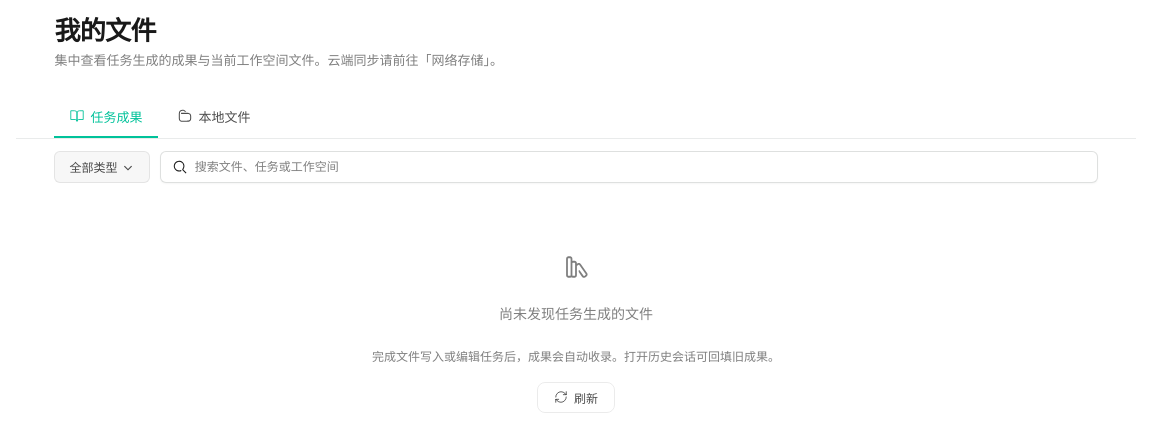
Test case: MyFilesPanel › 目录加载失败显示错误与重试，不误报暂无文件
The image size is (1153, 430).
What coordinates should you click on to do the following:
click the button "本地文件"
I would click on:
 (214, 118)
Its box is [162,98,266,138].
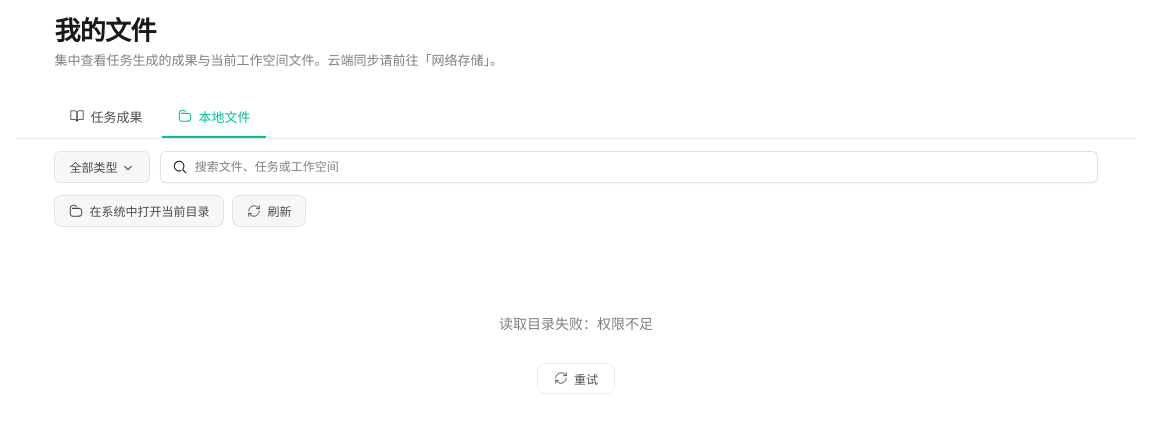
Expected: the text "暂无文件" is not shown
Now the message shows "读取目录失败：权限不足", box [499,314,653,394]
What coordinates should you click on to do the following:
click the button "重试"
I would click on:
 (576, 378)
Its box is [537,362,615,394].
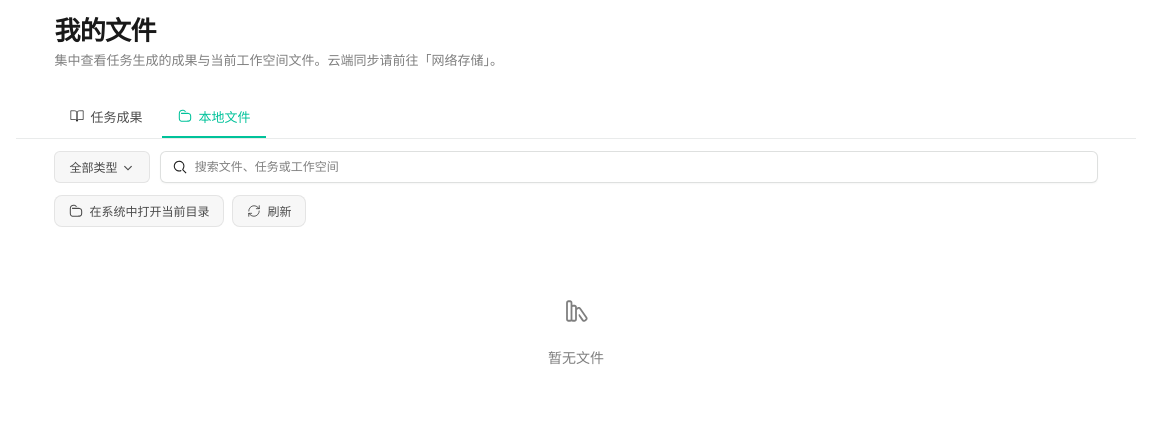
Now the text "暂无文件" is shown, box [548,346,604,366]
